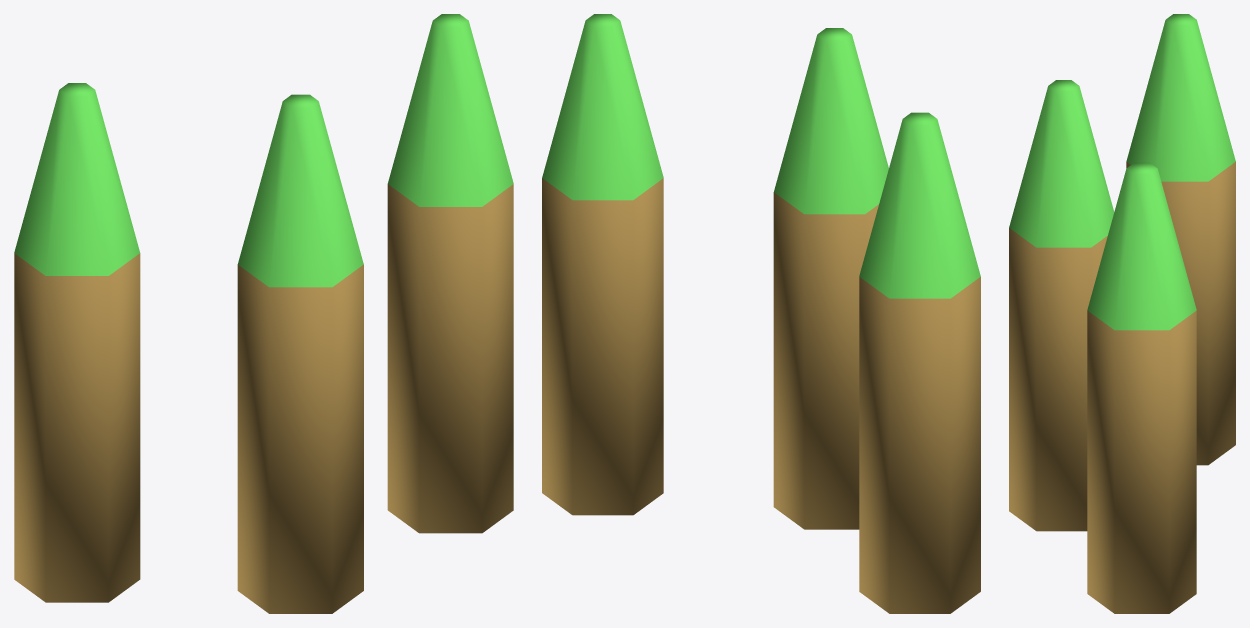
File: glowstick.glb
3 renders of one model, left to right at view 1: azimuth 30°, elevation 25°; view 2: azimuth 150°, elevation 25°; view 3: azimuth 270°, elevation 25°, orthographic. The views are drawn at different scales.
Parts seen in each view (by area): view 1: glowstick_v0; view 2: glowstick_v0; view 3: glowstick_v0.
Boxes of the visible parts, x1,y1,x2,y2 form: glowstick_v0: [14, 14, 513, 613]; glowstick_v0: [542, 14, 980, 613]; glowstick_v0: [1009, 14, 1235, 613].
Bounding box in the file's own units: 0.1142 × 0.12 × 0.058.
